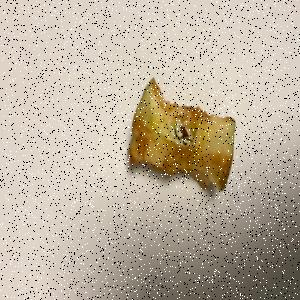Trash: (128, 77, 237, 193)
